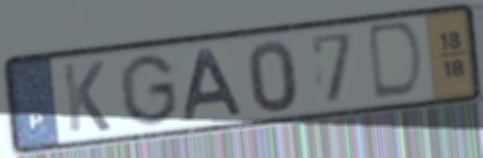0: (244, 35, 302, 115)
7: (309, 29, 356, 107)
A: (182, 45, 248, 124)
D: (367, 18, 428, 104)
G: (116, 51, 182, 129)
K: (59, 58, 114, 136)
